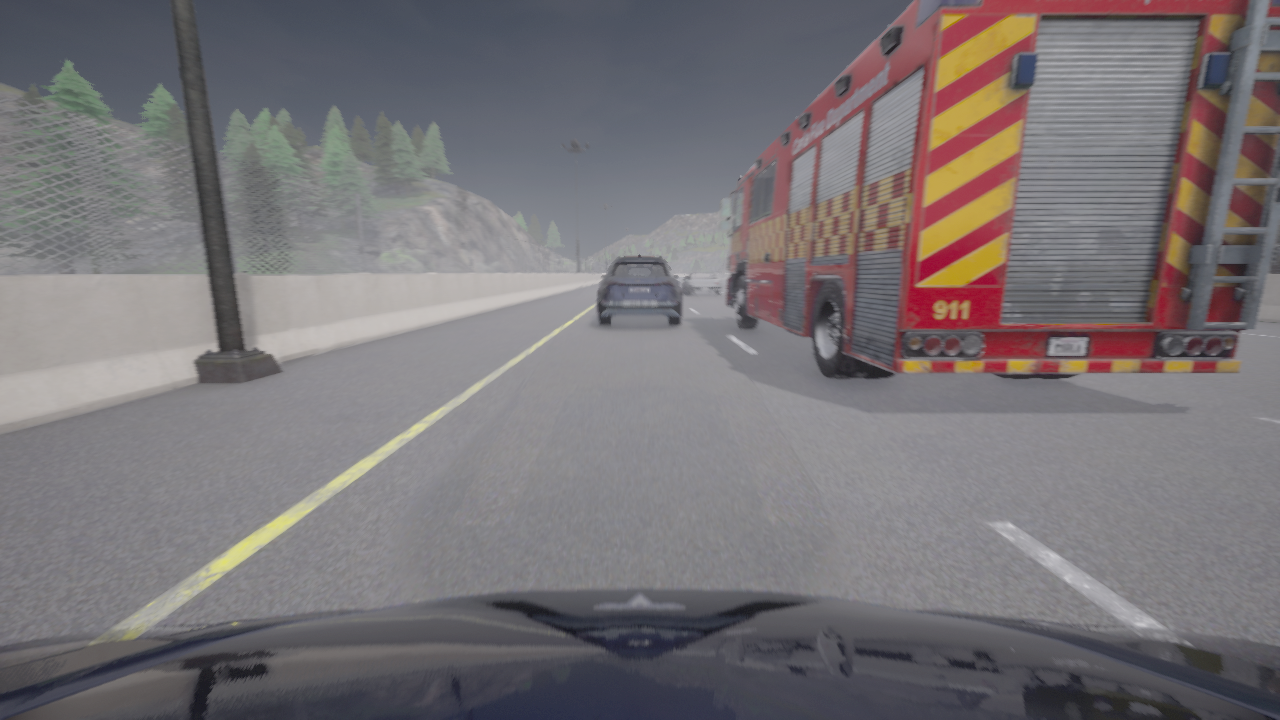cyclist: (719, 0, 1279, 379), (0, 588, 1279, 719), (598, 255, 681, 325), (682, 272, 722, 294)
